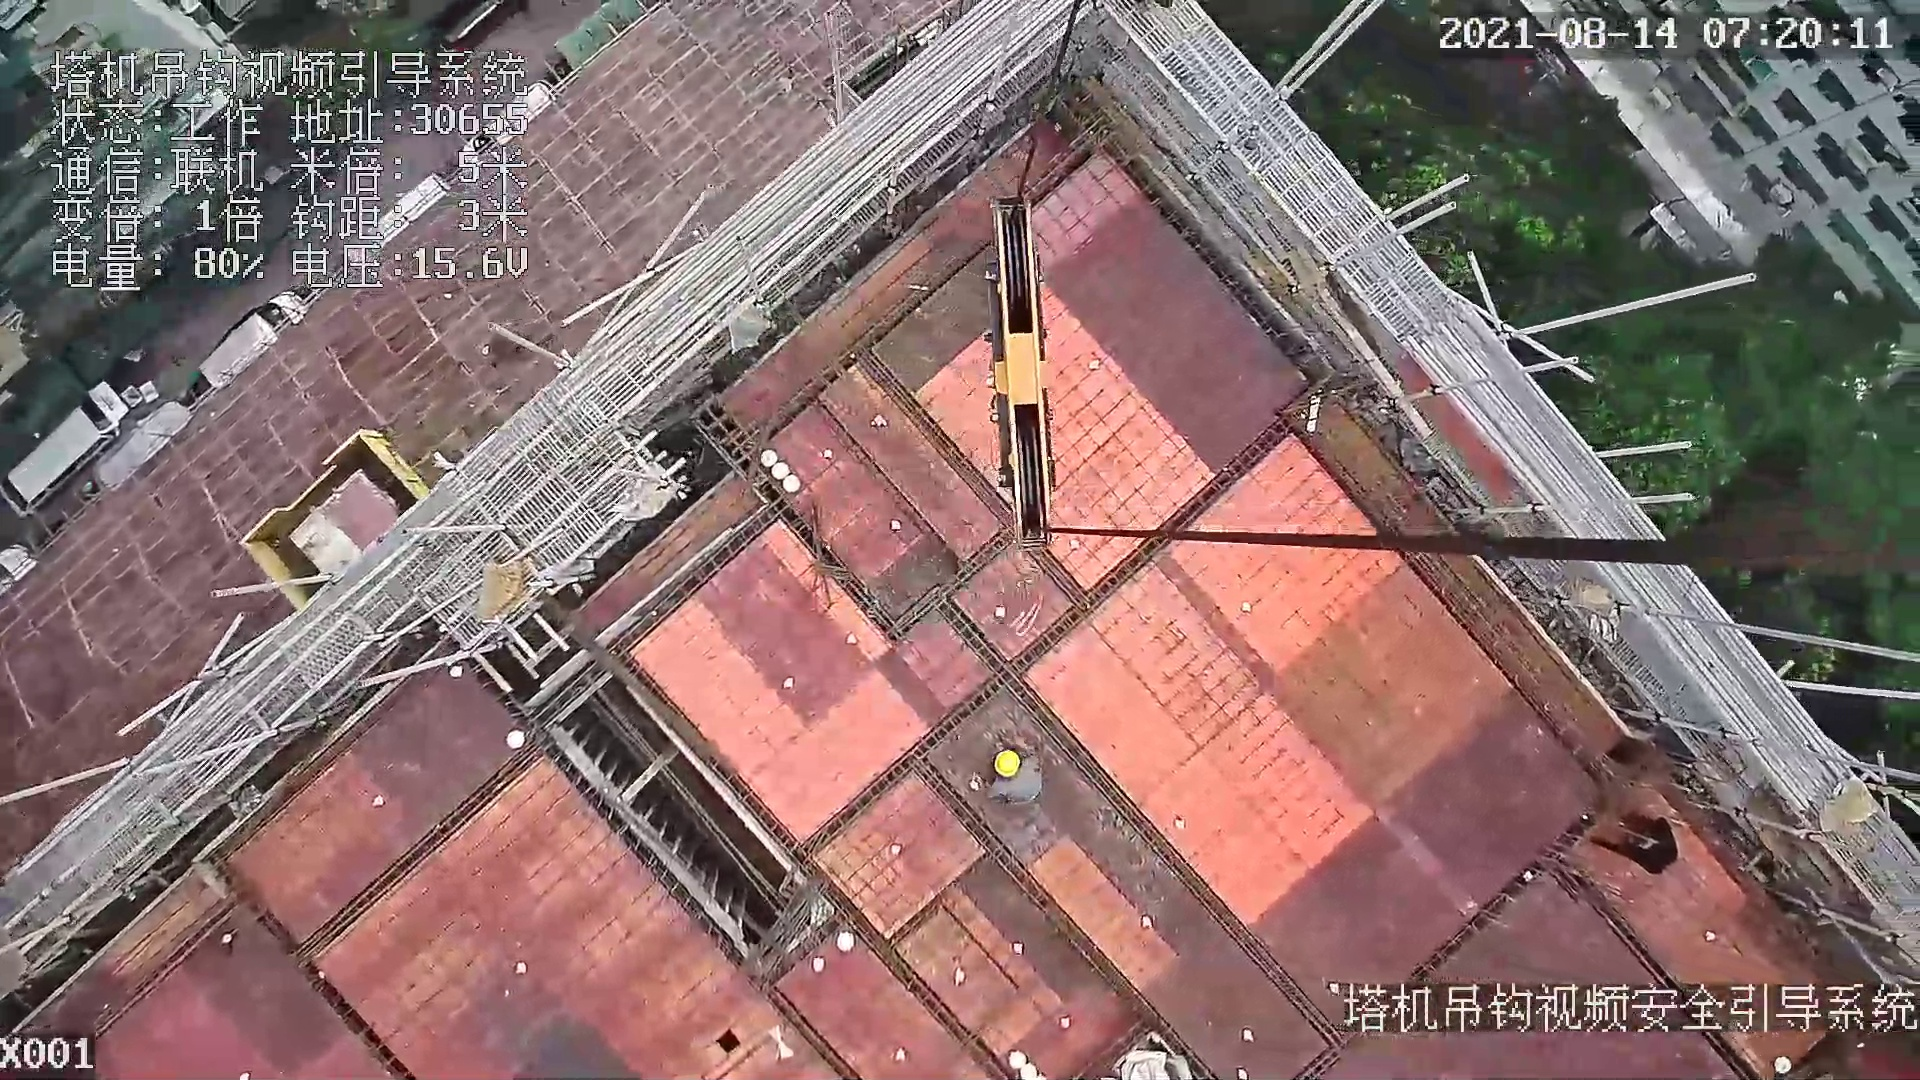helmet: (990, 744, 1024, 778)
hook: (977, 194, 1062, 544)
person: (974, 740, 1051, 813), (1600, 813, 1687, 878)
